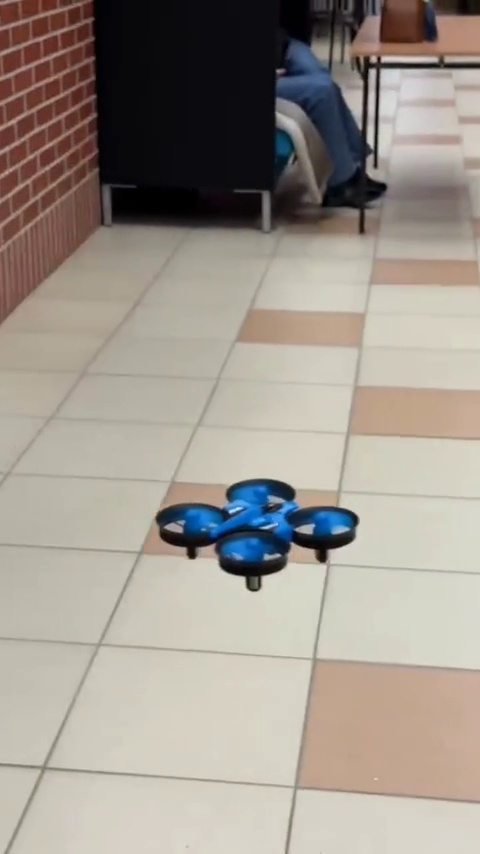drone: (149, 482, 360, 592)
